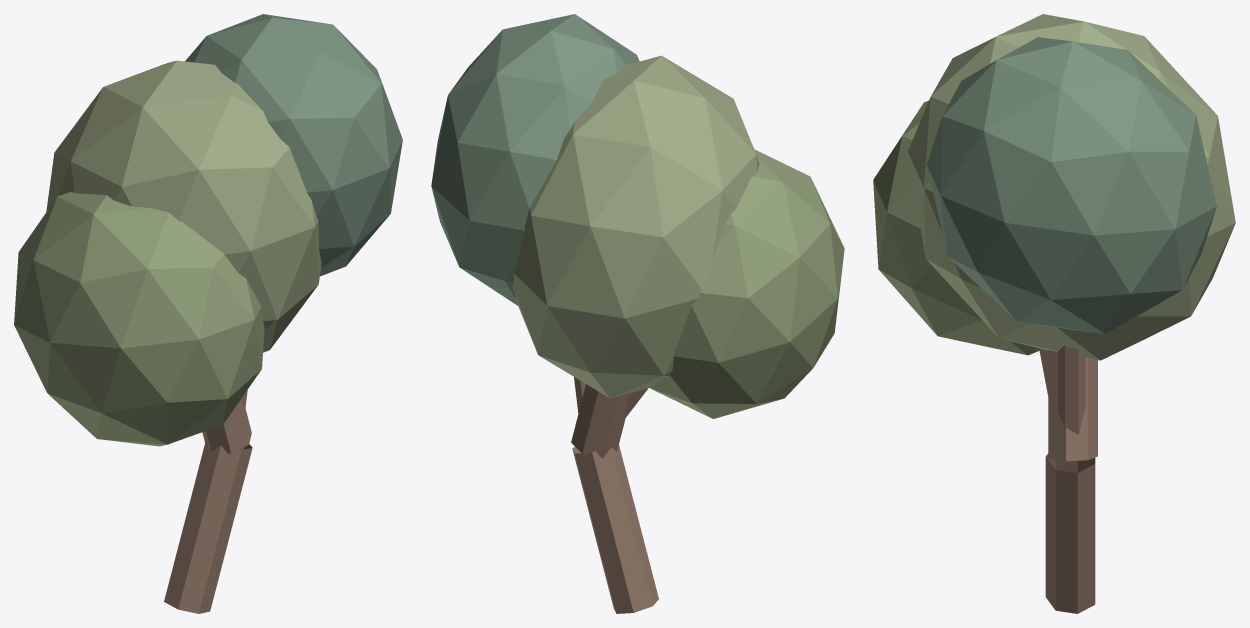
The picture shows the model from 3 angles, left to right: view 1: azimuth 30°, elevation 25°; view 2: azimuth 150°, elevation 25°; view 3: azimuth 270°, elevation 25°; orthographic projection. The views are drawn at different scales.
Parts seen in each view (by area): view 1: T24; view 2: T24; view 3: T24.
Boxes of the visible parts, bbox=[...] form: T24: bbox=[14, 14, 402, 613]; T24: bbox=[431, 14, 844, 613]; T24: bbox=[873, 14, 1235, 613].
Bounding box in the file's own units: 1.54 × 2.32 × 1.25.
